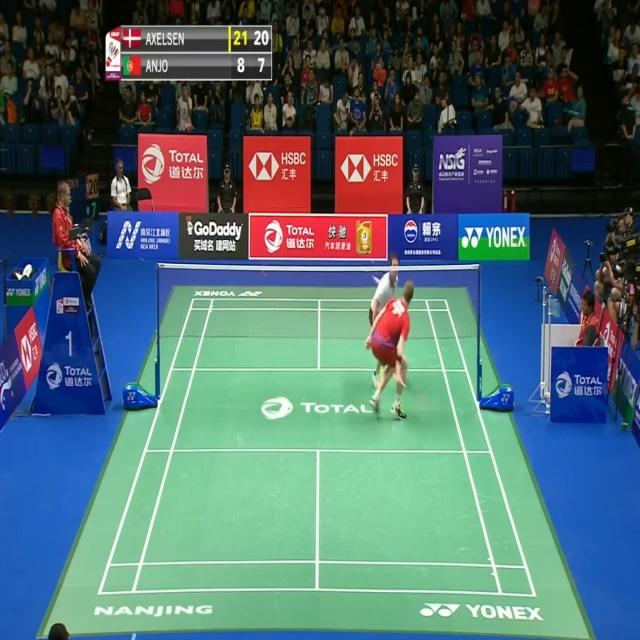Player1: (368, 282, 412, 428)
Player2: (366, 247, 402, 338)
